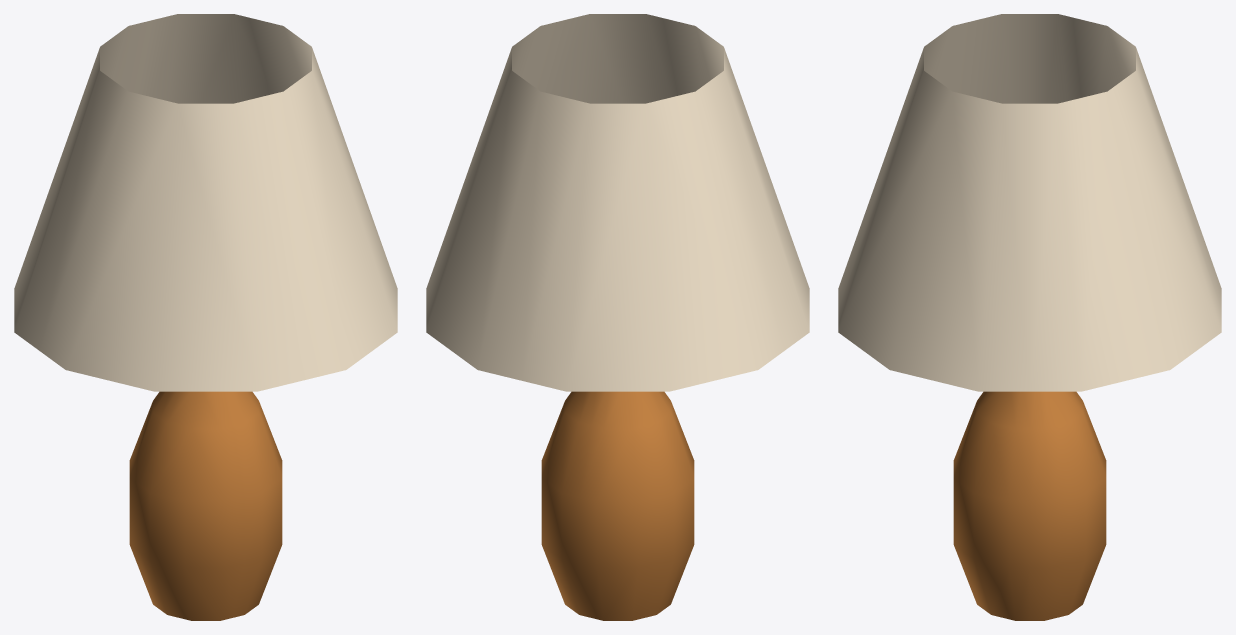
3 views of the same model, side by side, from view 1: azimuth 30°, elevation 25°; view 2: azimuth 150°, elevation 25°; view 3: azimuth 270°, elevation 25° (orthographic).
Visible parts, largest first — view 1: Mesh1_desk_light_modern_wood_quarter1_Model; view 2: Mesh1_desk_light_modern_wood_quarter1_Model; view 3: Mesh1_desk_light_modern_wood_quarter1_Model.
Part boxes in pixels (<box>): Mesh1_desk_light_modern_wood_quarter1_Model: <box>14,14,397,620</box>; Mesh1_desk_light_modern_wood_quarter1_Model: <box>426,14,809,620</box>; Mesh1_desk_light_modern_wood_quarter1_Model: <box>838,14,1221,620</box>.
Size of the model in its own units: 0.6462 by 1 by 0.6462.
